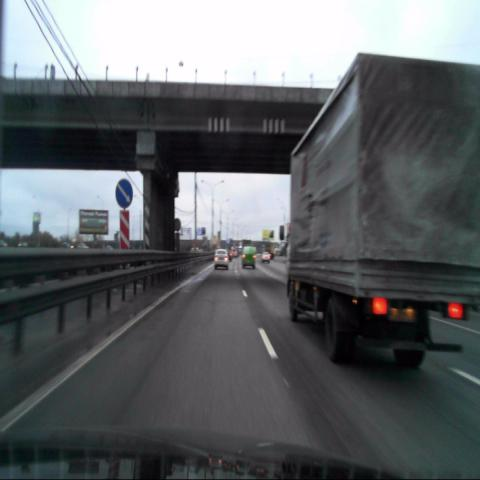4_2_1: (115, 180, 133, 208)
